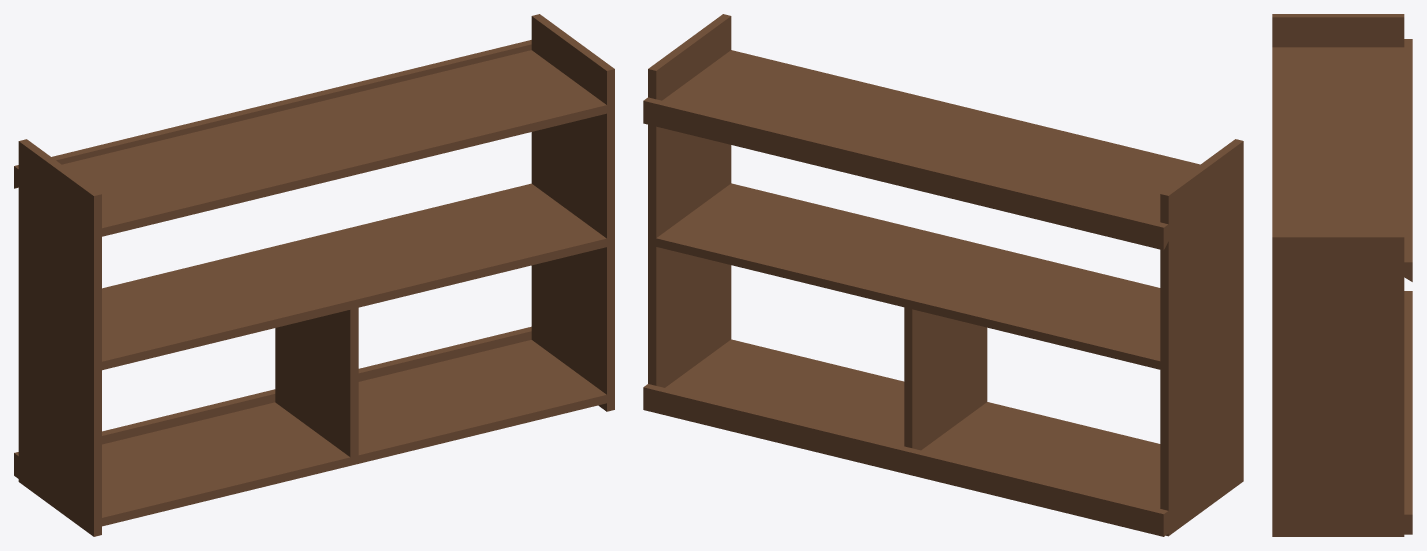
The model's file is wall_mounted_book_case.glb.
3 views of the same model, side by side, from view 1: azimuth 30°, elevation 25°; view 2: azimuth 150°, elevation 25°; view 3: azimuth 270°, elevation 25° (orthographic). The views are drawn at different scales.
Parts seen in each view (by area): view 1: wall_mounted_book_case; view 2: wall_mounted_book_case; view 3: wall_mounted_book_case.
Boxes of the visible parts, left/top/right/bottom form: wall_mounted_book_case: left=14, top=14, right=614, bottom=536; wall_mounted_book_case: left=643, top=14, right=1243, bottom=536; wall_mounted_book_case: left=1272, top=14, right=1412, bottom=536.
Bounding box in the file's own units: 48 × 30 × 12.75.
